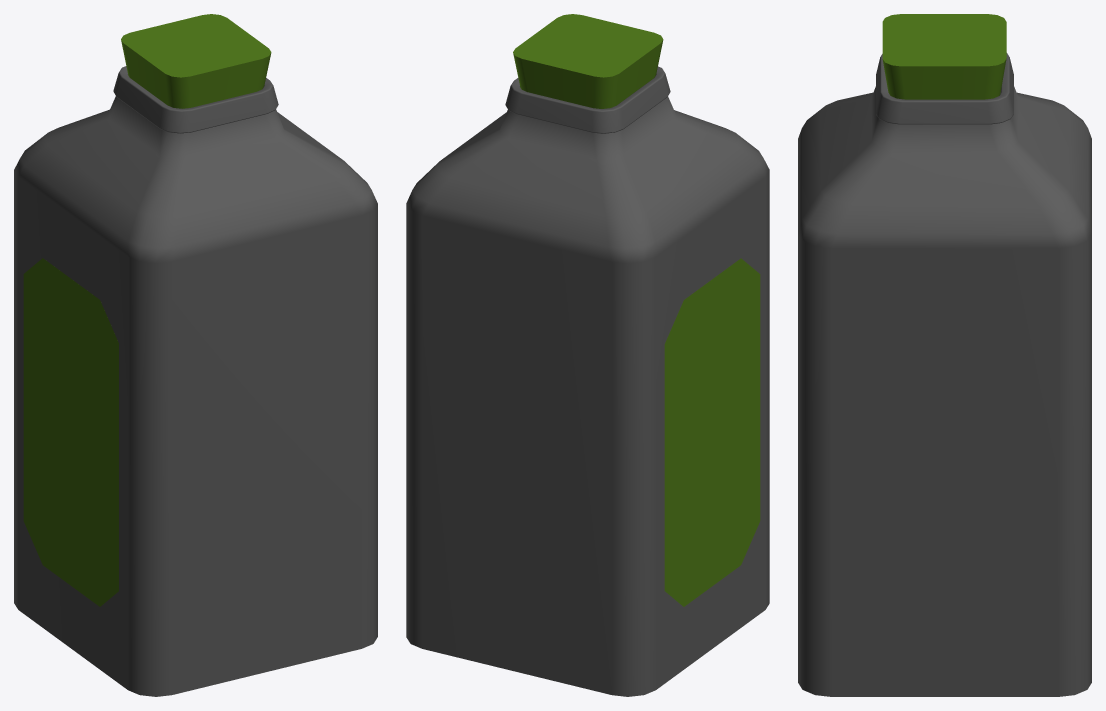
File: Pocion 5.fbx
3 views of the same model, side by side, from view 1: azimuth 30°, elevation 25°; view 2: azimuth 150°, elevation 25°; view 3: azimuth 270°, elevation 25° (orthographic). The views are drawn at different scales.
Parts seen in each view (by area): view 1: polySurface18; view 2: polySurface18; view 3: polySurface18.
Boxes of the visible parts, <box> form: polySurface18: <box>14,14,377,696</box>; polySurface18: <box>406,14,769,696</box>; polySurface18: <box>798,14,1091,696</box>.
Bounding box in the file's own units: 1.73 × 3.84 × 1.72.
